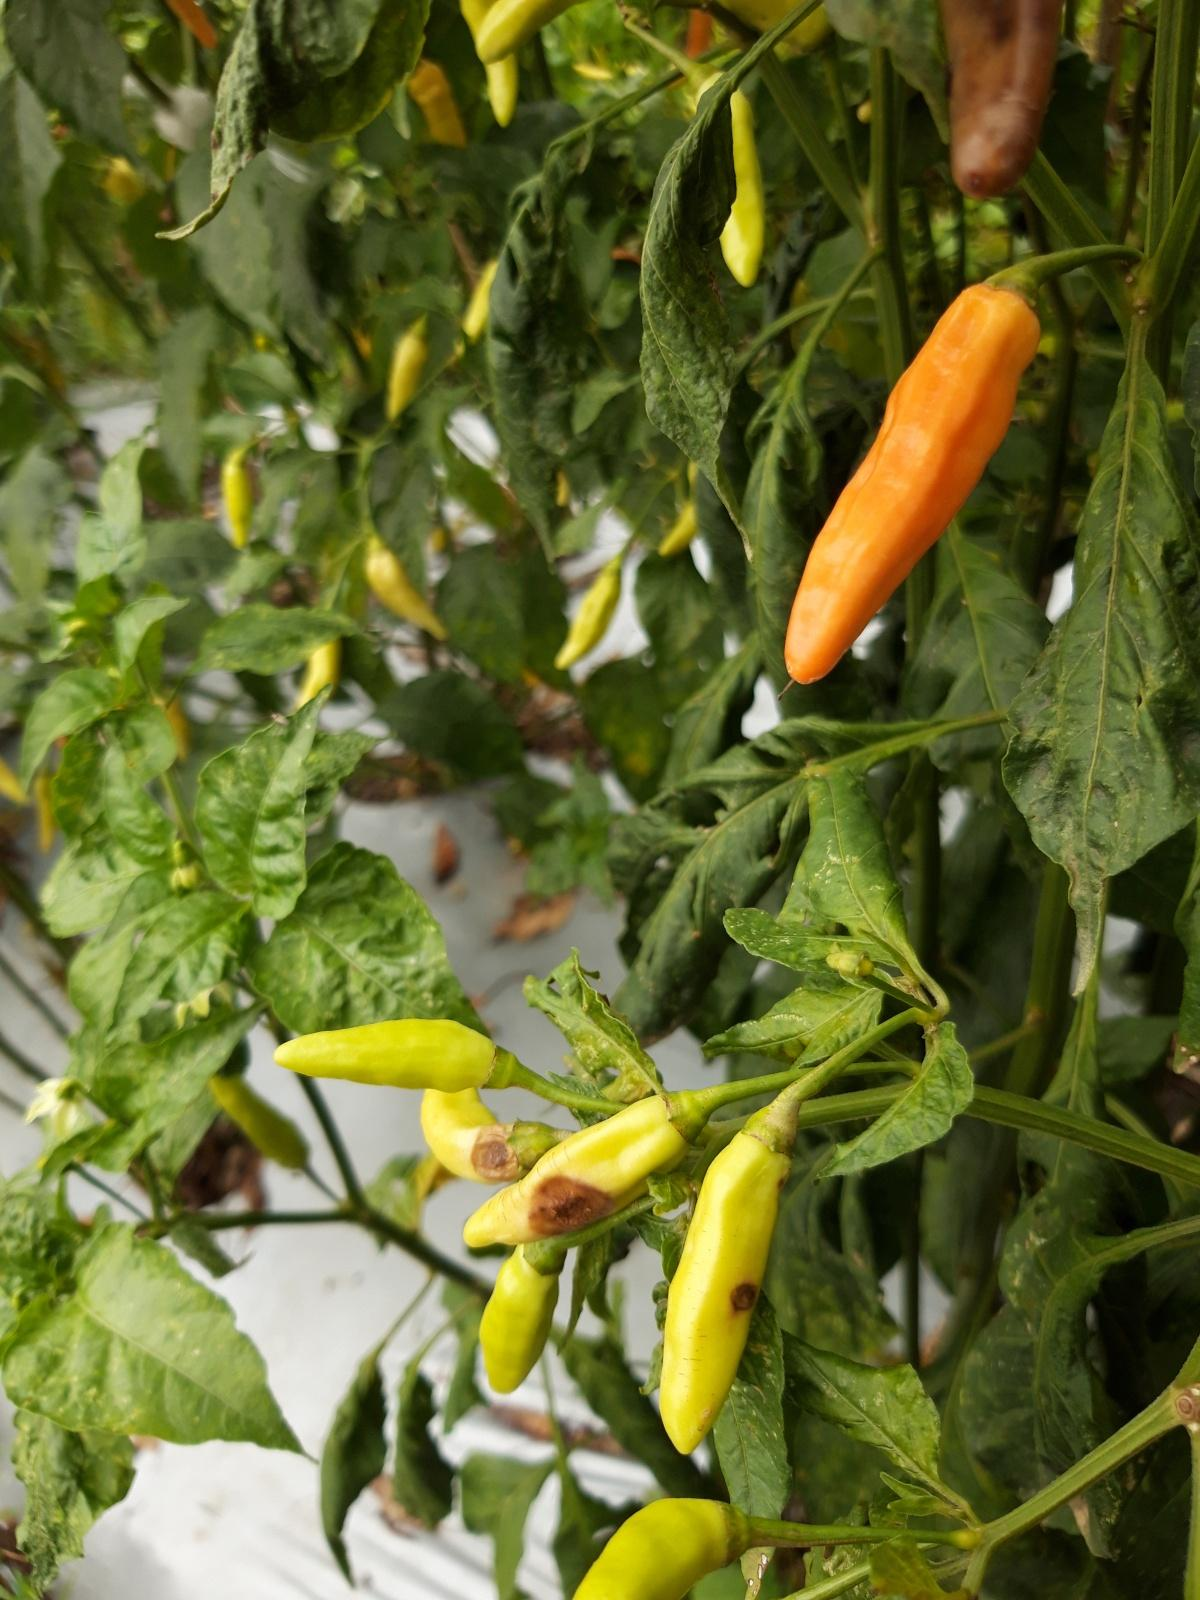cabai_normal: (783, 268, 1039, 685), (574, 1495, 751, 1600), (274, 1018, 518, 1092), (479, 1237, 574, 1393), (208, 1072, 310, 1172), (364, 532, 449, 643), (553, 566, 621, 673), (387, 321, 430, 422), (223, 451, 256, 551)
lalat_buah: (659, 1105, 797, 1454), (461, 1090, 710, 1249), (422, 1085, 548, 1182)
